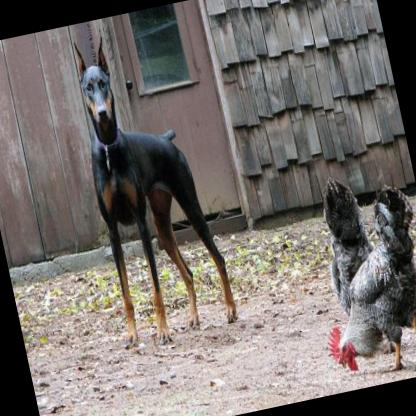Doberman: (44, 6, 254, 368)
